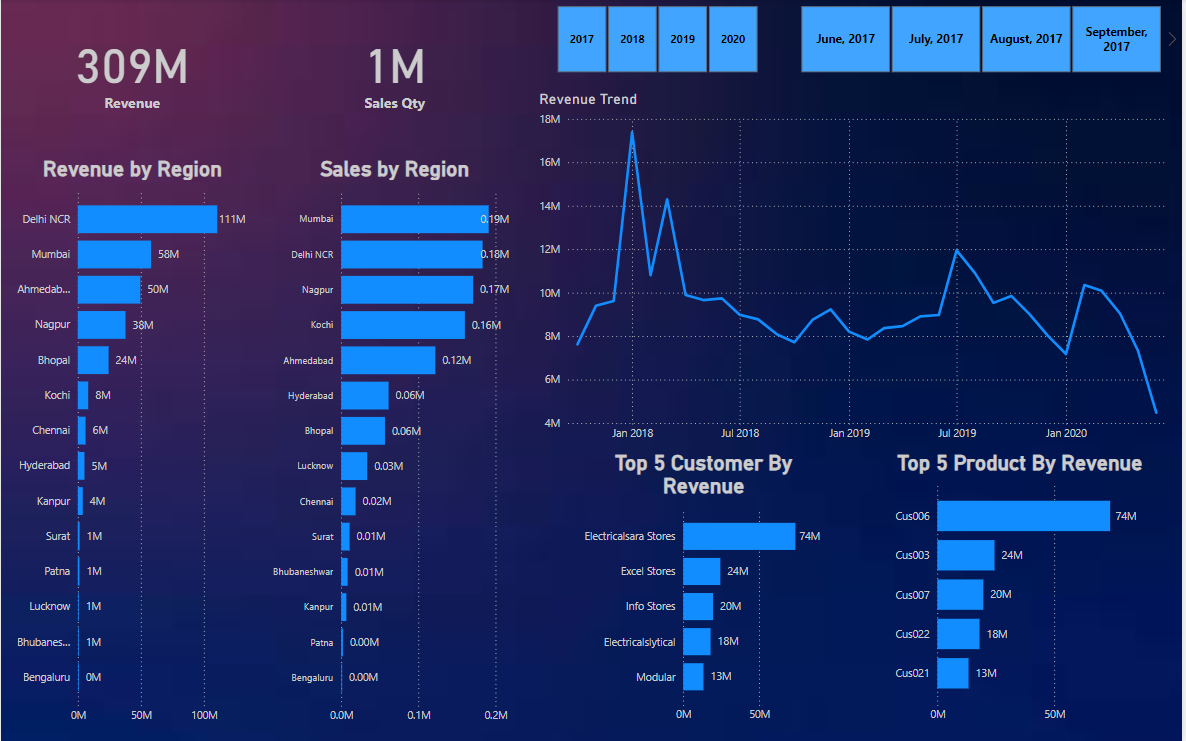

This screenshot's page, from the dashboard's own definition file:
{"tool":"powerbi","page":{"name":"Region ","canvas":[1350,850],"ordinal":0},"visuals":[{"type":"card","title":"Total revenue ","fields":{"Values":["Base masures.Revenue"]},"box":[0,0,300.3,178.3],"z":0},{"type":"card","title":"Total revenue ","fields":{"Values":["Base masures.Sales Qty"]},"box":[300.3,0,300.3,178.3],"z":1000},{"type":"clusteredBarChart","title":"Revenue by Region","fields":{"Y":["Base masures.Revenue"],"Category":["markets.markets_name"]},"box":[0,178.3,300.3,672],"z":2000},{"type":"clusteredBarChart","title":"Sales by Region","fields":{"Y":["Sum(transactions.sales_qty)"],"Category":["markets.markets_name"]},"box":[299.8,178,299.8,672.6],"z":3000},{"type":"slicer","fields":{"Values":["date.year"]},"box":[610.2,0,278.5,89.8],"z":4000},{"type":"slicer","fields":{"Values":["date.cy_date"]},"box":[888.7,0,461.1,89],"z":5000},{"type":"clusteredBarChart","title":"Top 5 Customer By Revenue","fields":{"Y":["Base masures.Revenue"],"Category":["customers.custmer_name"]},"box":[653.2,514.3,300.3,336],"z":6000},{"type":"clusteredBarChart","title":"Top 5 Product By Revenue","fields":{"Y":["Base masures.Revenue"],"Category":["customers.customer_code"]},"box":[1013.6,514.3,300.3,336],"z":7000},{"type":"lineChart","title":"Revenue Trend","fields":{"Y":["Base masures.Revenue"],"Category":["date.cy_date.Variation.Date Hierarchy.Year","date.cy_date.Variation.Date Hierarchy.Quarter","date.cy_date.Variation.Date Hierarchy.Month","date.cy_date.Variation.Date Hierarchy.Day"]},"box":[610.2,103.5,739.5,410.8],"z":8000}]}

Visuals, with their boxes in screenshot pixels (x1, y1, x2, y2), scaled from the page's 1350x850 canvas onto the 1186x741 screenshot:
"Total revenue " card: 0:0:264:155
"Total revenue " card: 264:0:528:155
"Revenue by Region" clusteredBarChart: 0:155:264:740
"Sales by Region" clusteredBarChart: 263:155:527:740
slicer - date.year: 536:0:781:78
slicer - date.cy_date: 781:0:1185:78
"Top 5 Customer By Revenue" clusteredBarChart: 574:448:838:740
"Top 5 Product By Revenue" clusteredBarChart: 890:448:1154:740
"Revenue Trend" lineChart: 536:90:1185:448
